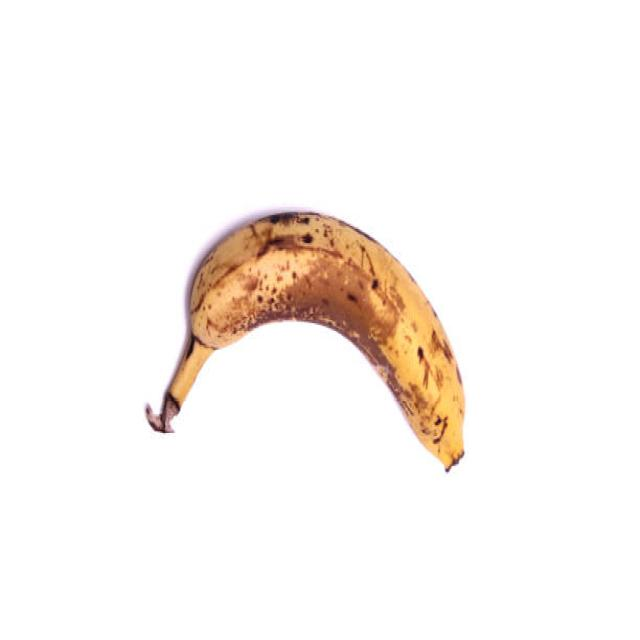overripe: (164, 195, 470, 478)
